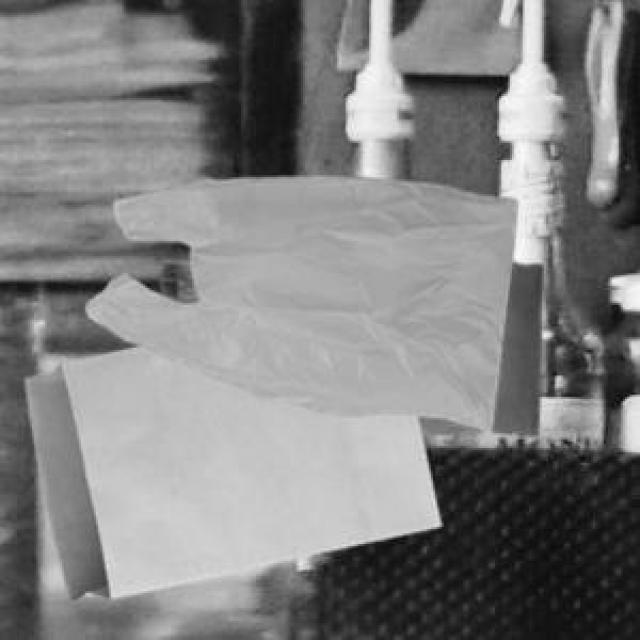paper: (21, 341, 437, 595)
